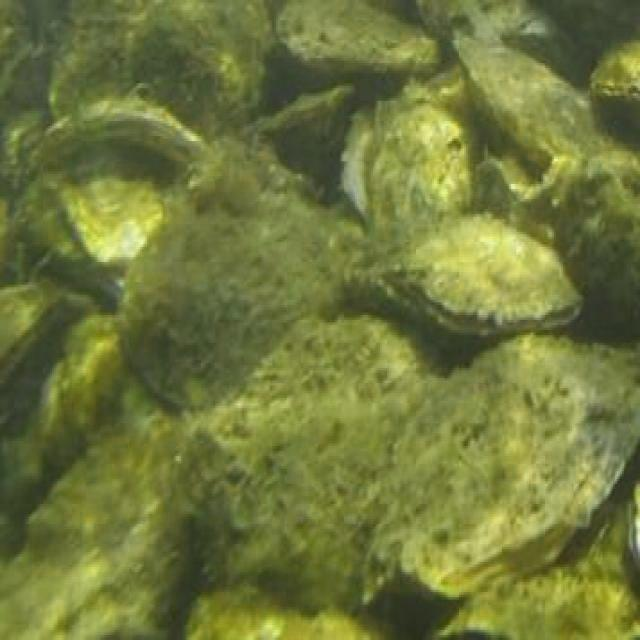Oyster-Closed: (172, 314, 450, 599), (372, 330, 639, 595), (119, 188, 367, 414), (0, 316, 191, 581), (0, 414, 200, 639), (423, 491, 639, 639), (476, 153, 639, 343), (54, 0, 270, 136), (453, 35, 639, 160), (341, 83, 479, 244), (417, 0, 584, 84), (278, 0, 439, 83), (234, 85, 356, 190), (60, 146, 163, 262), (187, 587, 399, 639), (42, 102, 207, 165), (0, 281, 69, 400), (0, 0, 40, 129), (591, 36, 639, 115), (427, 66, 464, 105), (625, 482, 639, 566)
Oyster-Open: (351, 213, 583, 339)
